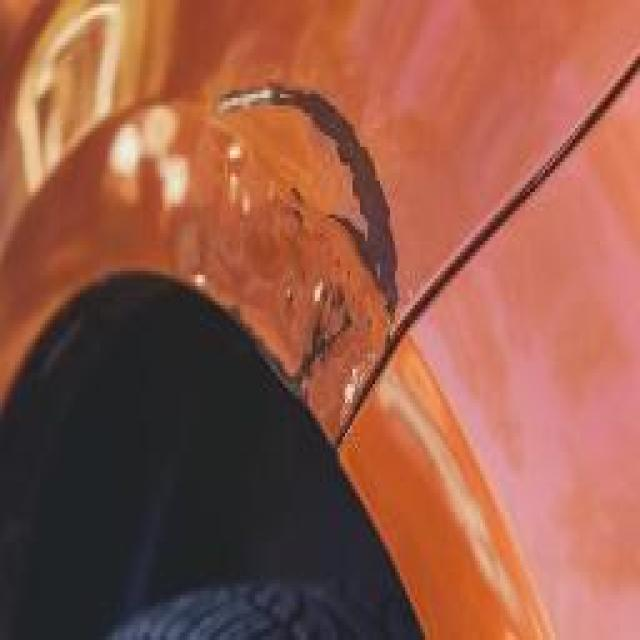Fender: (102, 0, 438, 422)
